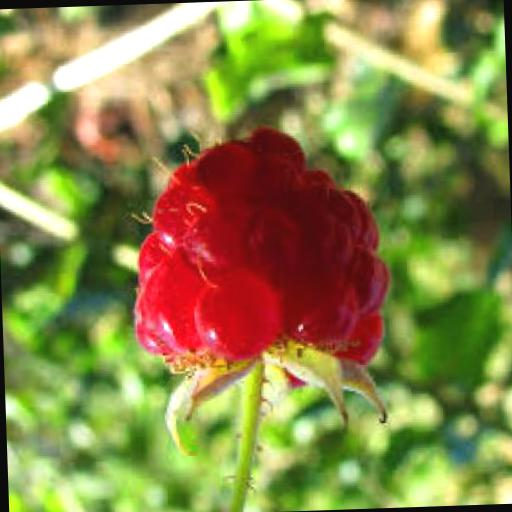biodegradable: (130, 120, 398, 407)
